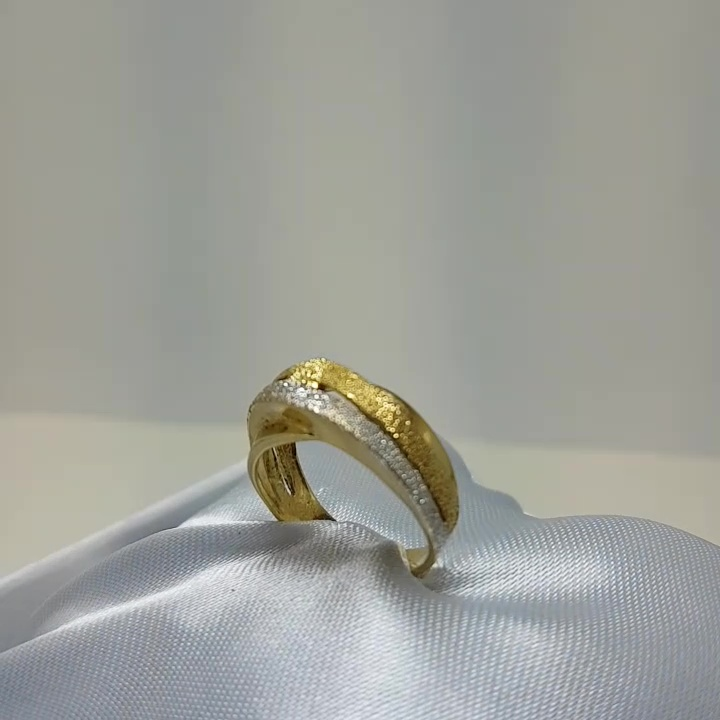Ring 5: (221, 351, 478, 600)
